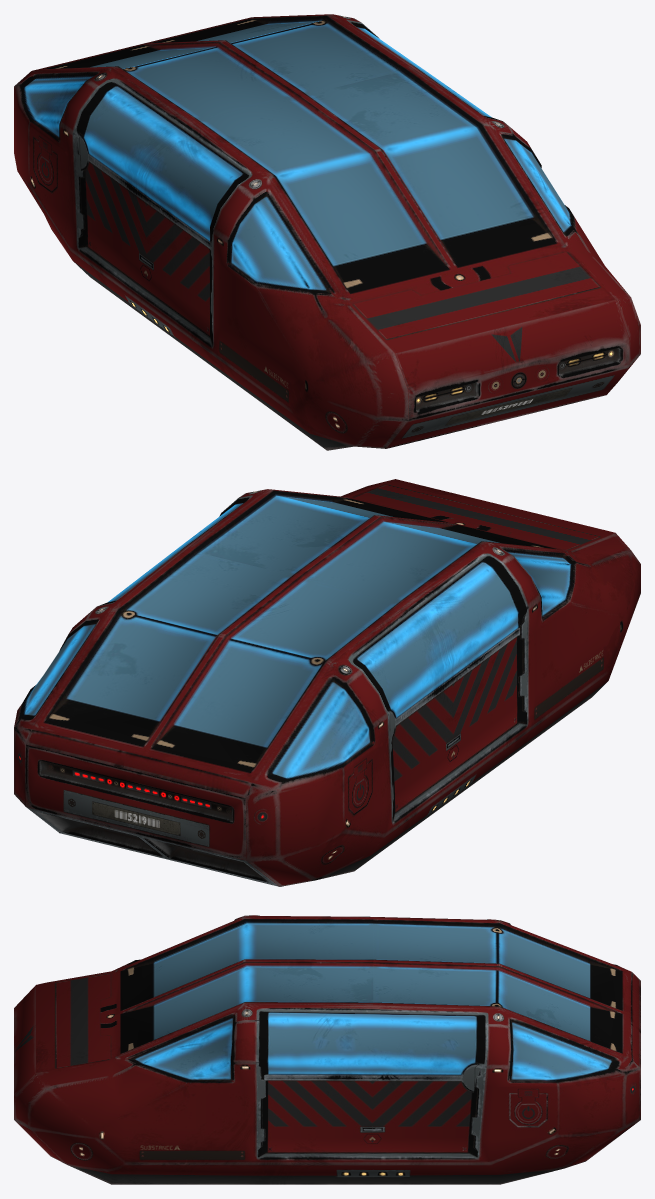
The model's file is showcaseCityVehicle.15552b57.glb.
The picture shows the model from 3 angles, top to bottom: view 1: azimuth 30°, elevation 25°; view 2: azimuth 150°, elevation 25°; view 3: azimuth 270°, elevation 25°; orthographic projection. The views are drawn at different scales.
Parts seen in each view (by area): view 1: g; view 2: g; view 3: g.
Boxes of the visible parts, x1=… form: g: x1=14, y1=14, x2=640, y2=450; g: x1=14, y1=479, x2=640, y2=886; g: x1=14, y1=915, x2=640, y2=1184.
Bounding box in the file's own units: 2.38 × 1.51 × 5.
1 material, 1 textured.
